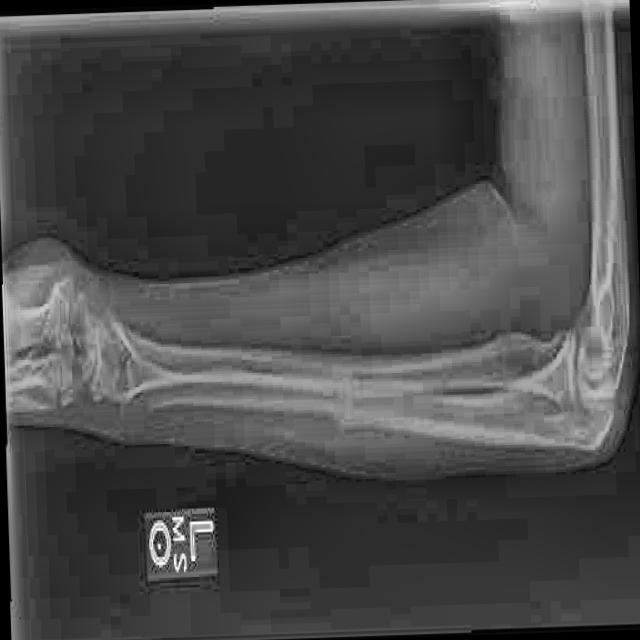forearm fracture: (327, 367, 371, 463)
